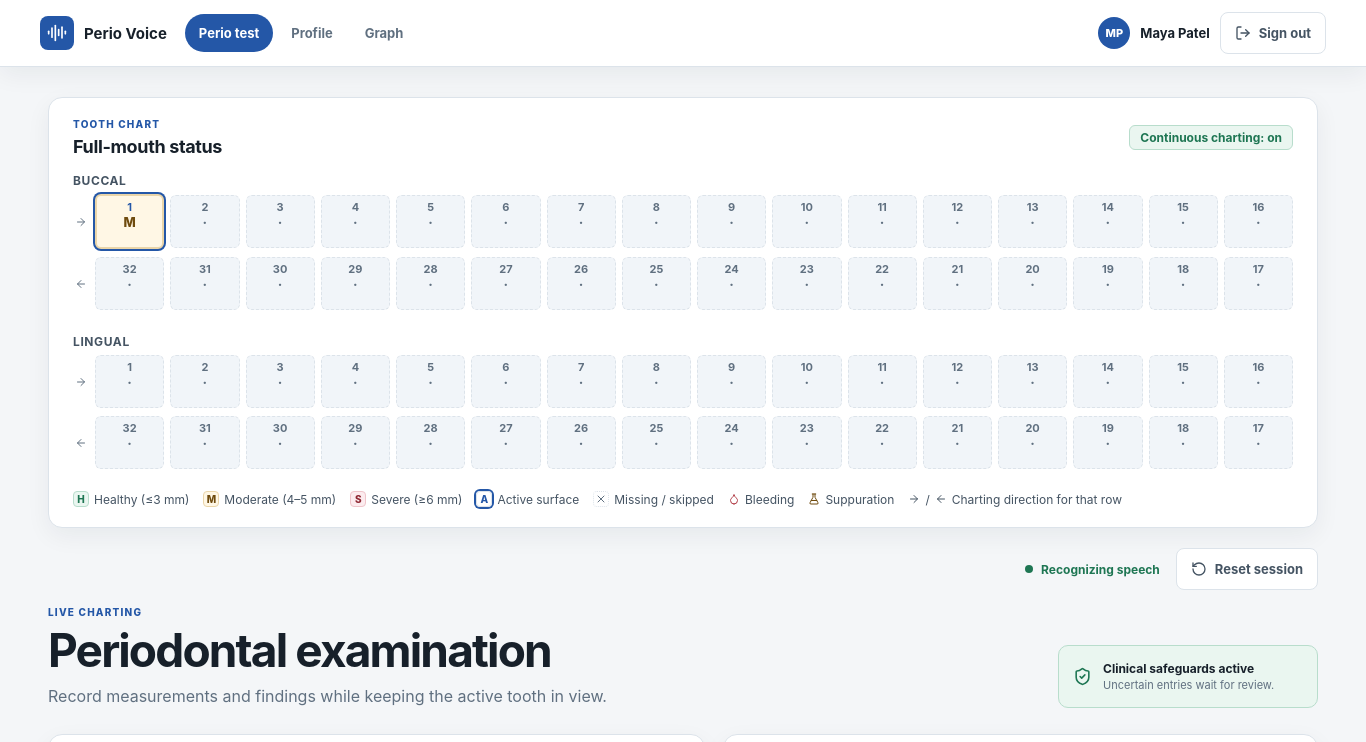
Test case: active ASR workflow boundary › ignores a final that arrives while a full session reset is draining audio
Click the button "Reset session" at (1247, 569), box [1176,548,1318,590]
(page scrolled)
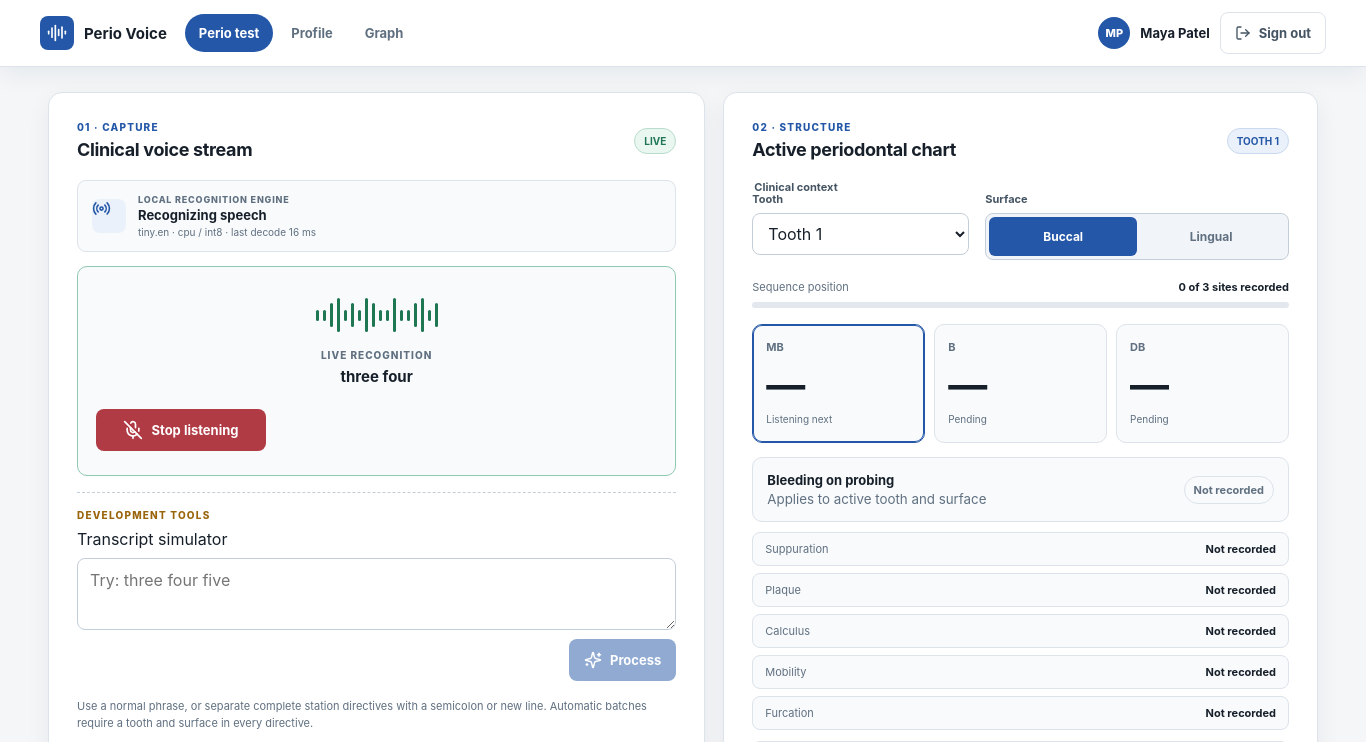
Expected: the text named "MB probing depth not recorded" is shown, [766,362,805,408]
